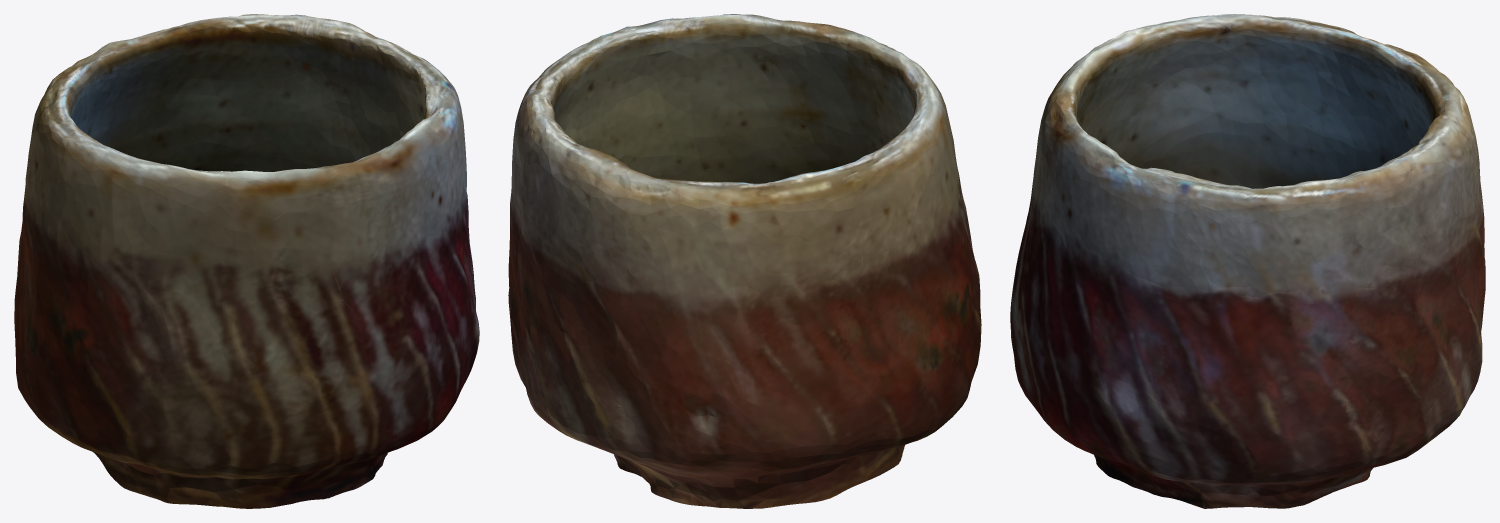
File: metascan_20230106-1453_Red_Whiskey_Cup.glb
3 renders of one model, left to right at view 1: azimuth 30°, elevation 25°; view 2: azimuth 150°, elevation 25°; view 3: azimuth 270°, elevation 25°, orthographic. The views are drawn at different scales.
Size of the model in its own units: 0.0944 by 0.0768 by 0.0932.
1 material, 1 textured.
